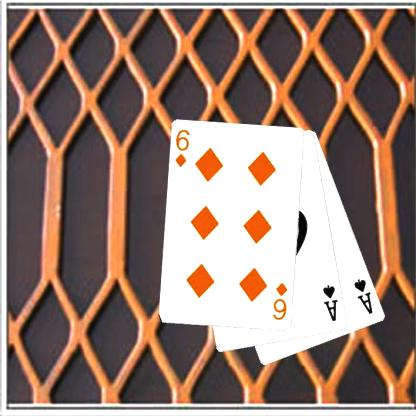6D: (270, 280, 289, 322), (173, 128, 191, 168)
AS: (352, 276, 374, 316), (320, 282, 340, 323)
